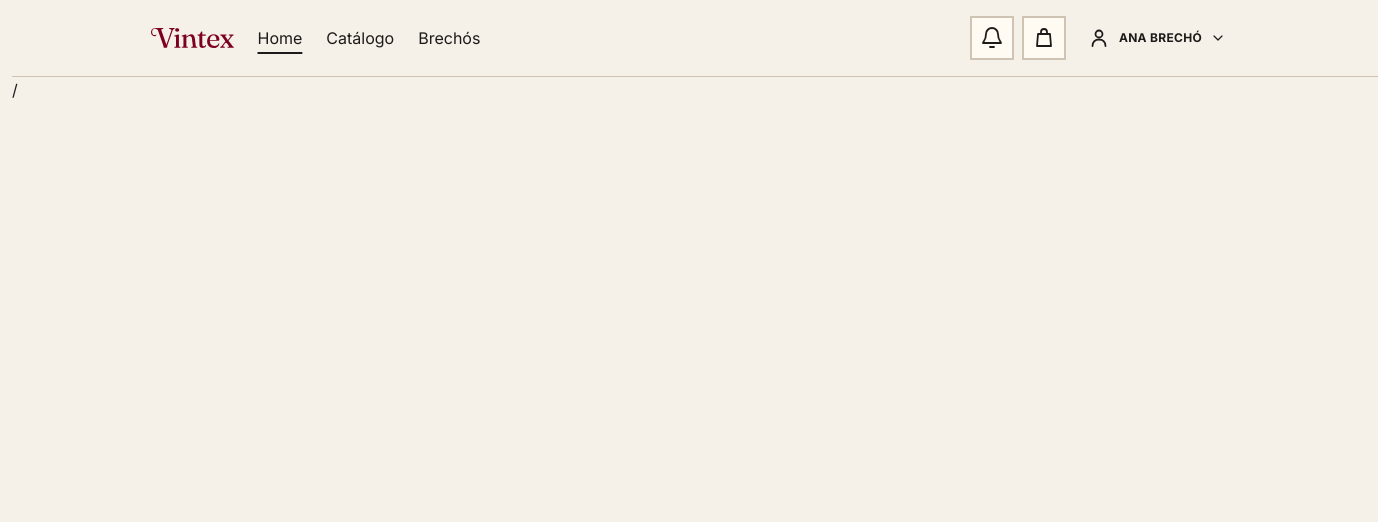
Scenario: <Header /> › FE-FND-6: navegação da Sprint 3 › admin: exibe Painel admin no menu da conta
Click the button "Ana Brechó". click: (1156, 38)
box: [1074,16,1239,60]
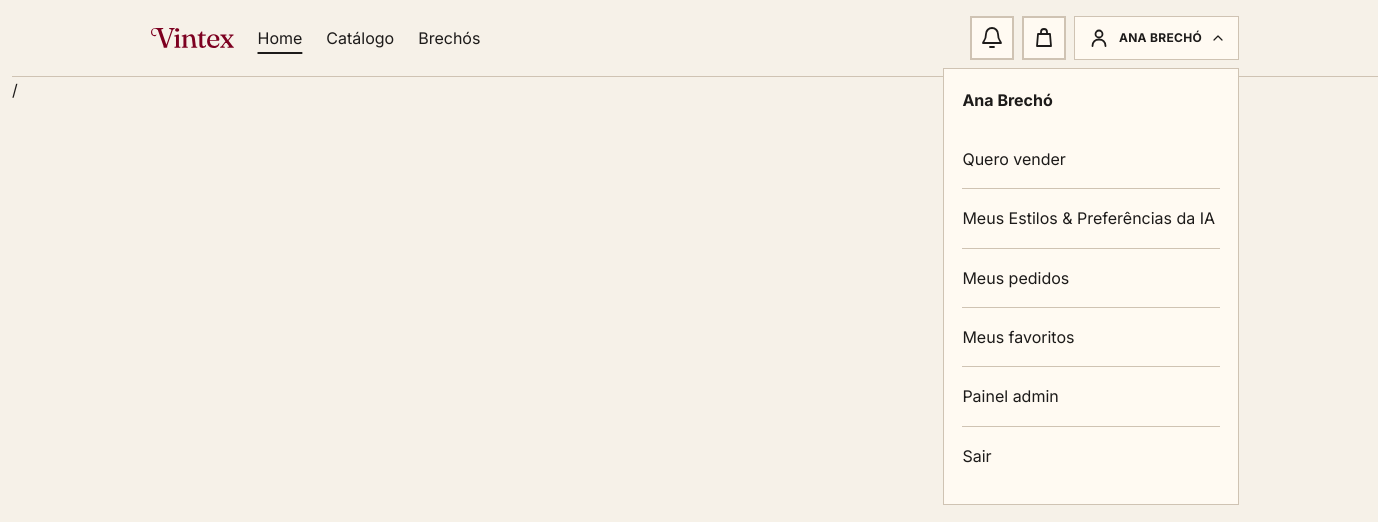
Now the button "Painel admin" is shown, box [962,367,1220,426]
